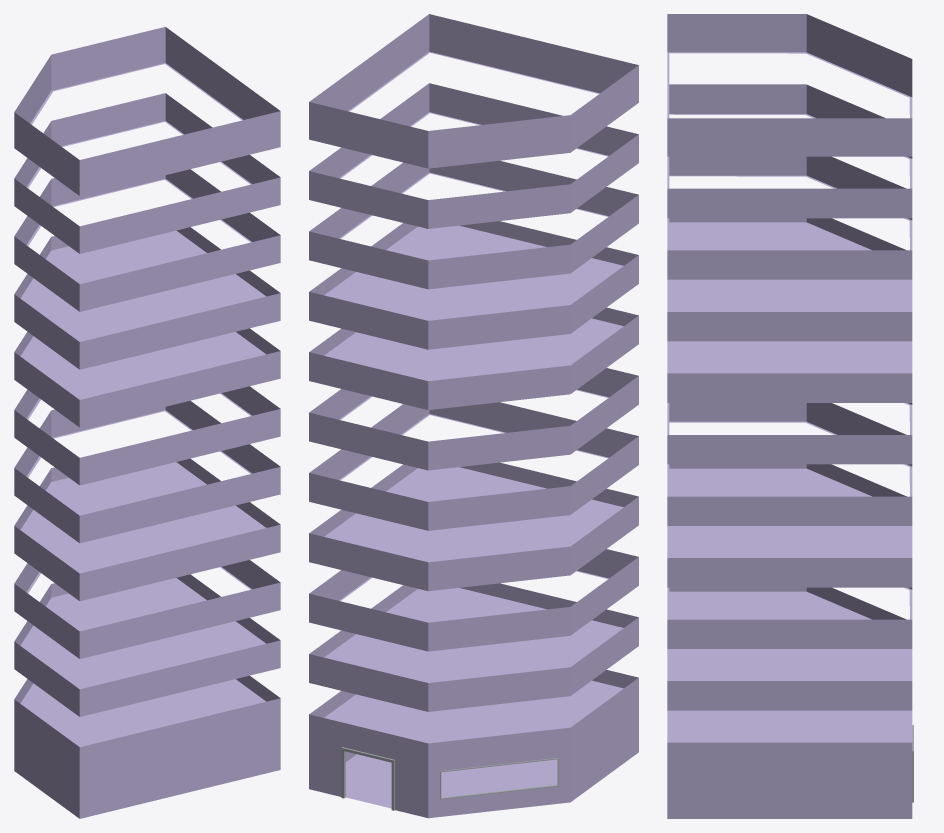
Rendered from Bld_C_high_L4_C.fbx.
3 renders of one model, left to right at view 1: azimuth 30°, elevation 25°; view 2: azimuth 150°, elevation 25°; view 3: azimuth 270°, elevation 25°, orthographic. The views are drawn at different scales.
Parts seen in each view (by area): view 1: Bld_C_high_L4_C_LOD0; view 2: Bld_C_high_L4_C_LOD0; view 3: Bld_C_high_L4_C_LOD0.
Boxes of the visible parts, x1,y1,x2,y2 form: Bld_C_high_L4_C_LOD0: (14,27,280,818); Bld_C_high_L4_C_LOD0: (309,14,638,818); Bld_C_high_L4_C_LOD0: (667,14,913,818).
Size of what is drawn, in the model's own units: 2100 by 7130 by 2232.
Materials: 1 (1 with a texture image).
